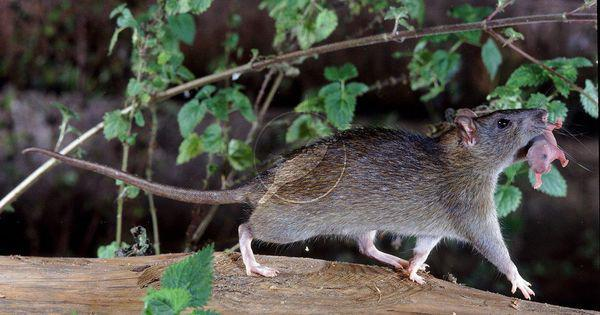rat: (21, 108, 550, 300)
